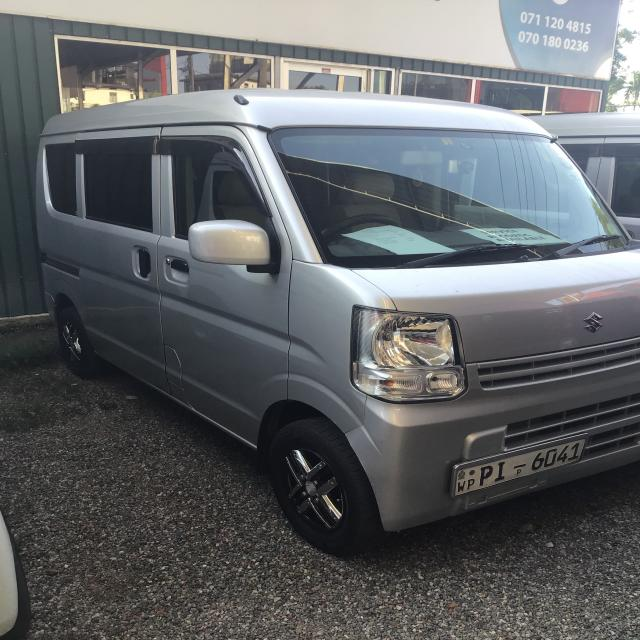van: (29, 86, 640, 552)
